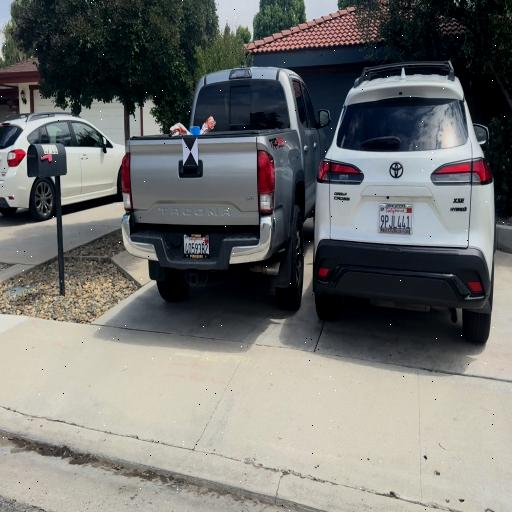target: (182, 138, 198, 167)
